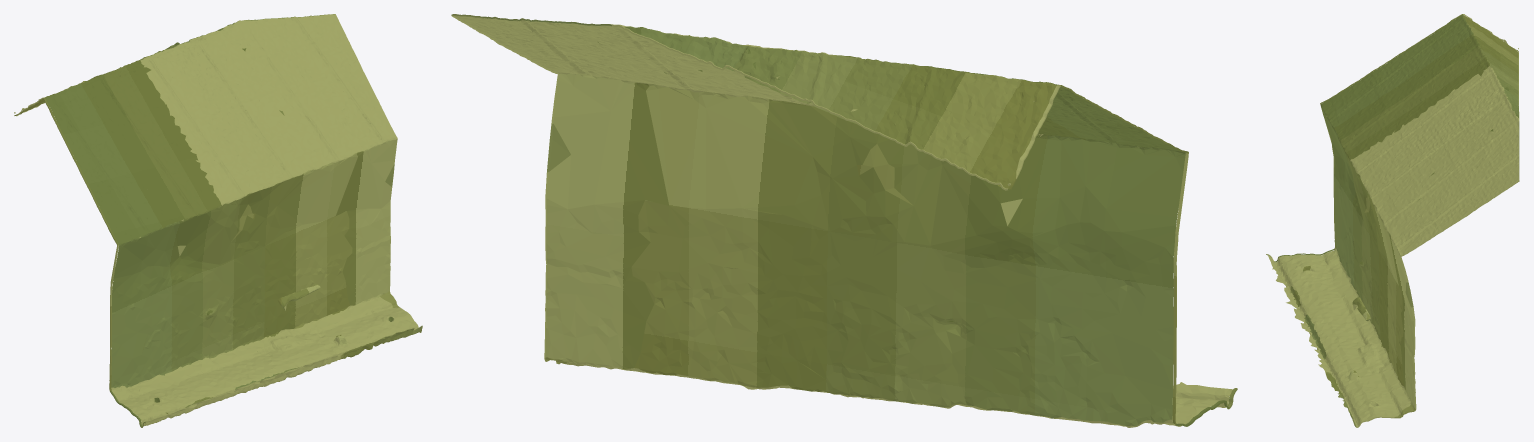
3 views of the same model, side by side, from view 1: azimuth 30°, elevation 25°; view 2: azimuth 150°, elevation 25°; view 3: azimuth 270°, elevation 25° (orthographic). The views are drawn at different scales.
Visible parts, largest first — view 1: node_29; view 2: node_29; view 3: node_29.
Boxes of the visible parts, x1,y1,x2,y2 form: node_29: (14,14,422,427); node_29: (451,14,1237,427); node_29: (1266,14,1519,427).
Bounding box in the file's own units: 23.2 × 18.91 × 16.46.
1 material, 1 textured.
